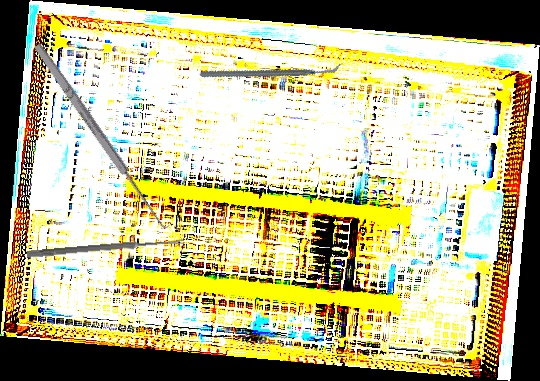Chopper: (198, 15, 344, 126)
Hook Surgical: (30, 36, 178, 234)
Surgical Spoon: (26, 237, 185, 259)
